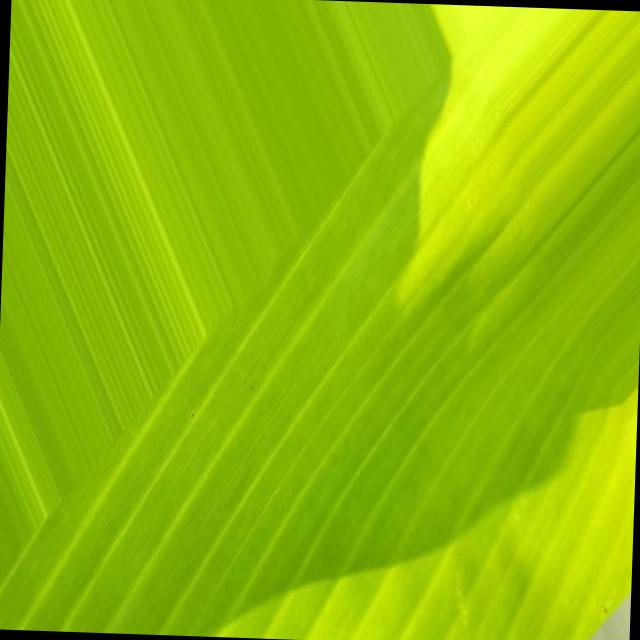Banana_Healthy: (101, 130, 478, 426)
